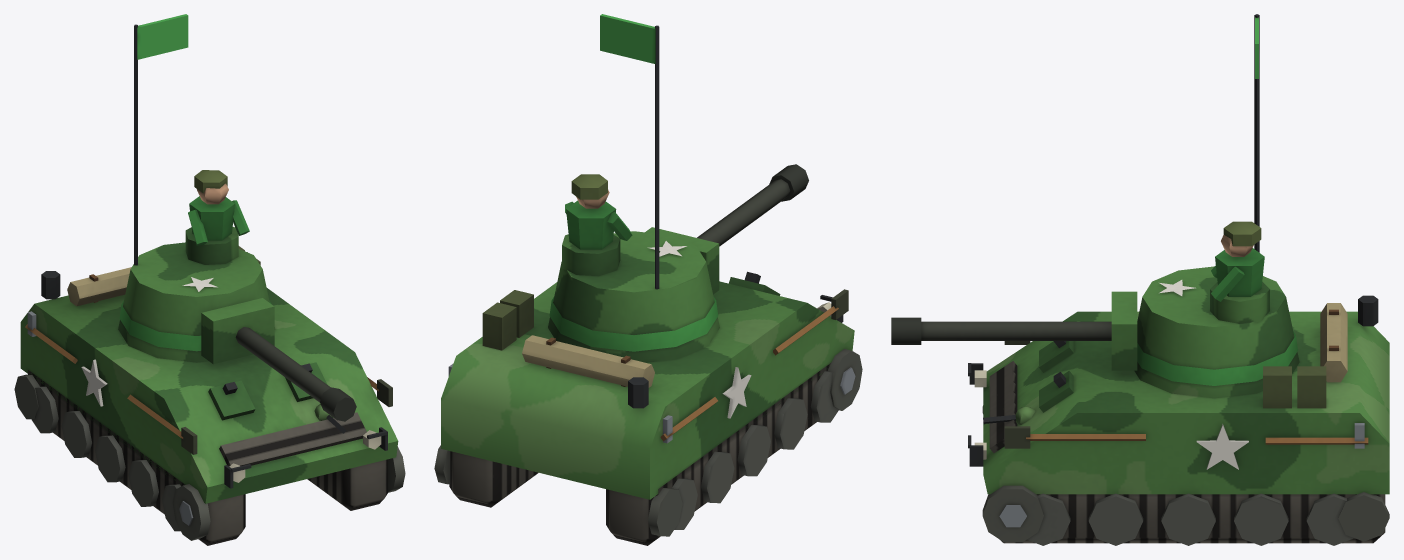
Rendered from assault_dl6_green.glb.
3 renders of one model, left to right at view 1: azimuth 30°, elevation 25°; view 2: azimuth 150°, elevation 25°; view 3: azimuth 270°, elevation 25°, orthographic. The views are drawn at different scales.
Parts seen in each view (by area): view 1: assault_dl6_green; view 2: assault_dl6_green; view 3: assault_dl6_green.
Part boxes in pixels (left/top/right/bottom): assault_dl6_green: left=14, top=14, right=405, bottom=545; assault_dl6_green: left=434, top=14, right=862, bottom=545; assault_dl6_green: left=891, top=14, right=1389, bottom=545.
Size of the model in its own units: 0.304 by 0.595 by 0.5825.
Materials: 1 (1 with a texture image).
